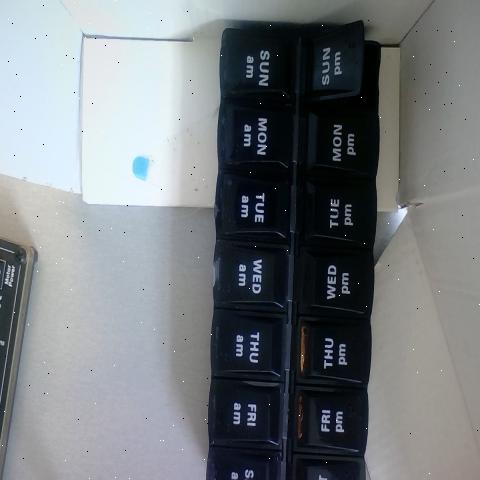FRI-am: (210, 384, 277, 447)
FRI-pm: (298, 386, 364, 452)
MON-am: (219, 104, 288, 165)
MON-pm: (310, 110, 378, 176)
Open: (313, 23, 379, 109)
SUN-am: (221, 33, 292, 99)
SUN-pm: (305, 27, 359, 94)
THU-am: (209, 314, 283, 382)
THU-pm: (297, 316, 368, 386)
TUE-am: (217, 174, 286, 240)
TUE-pm: (306, 184, 374, 242)
WED-am: (213, 244, 284, 306)
WED-pm: (305, 247, 371, 314)
